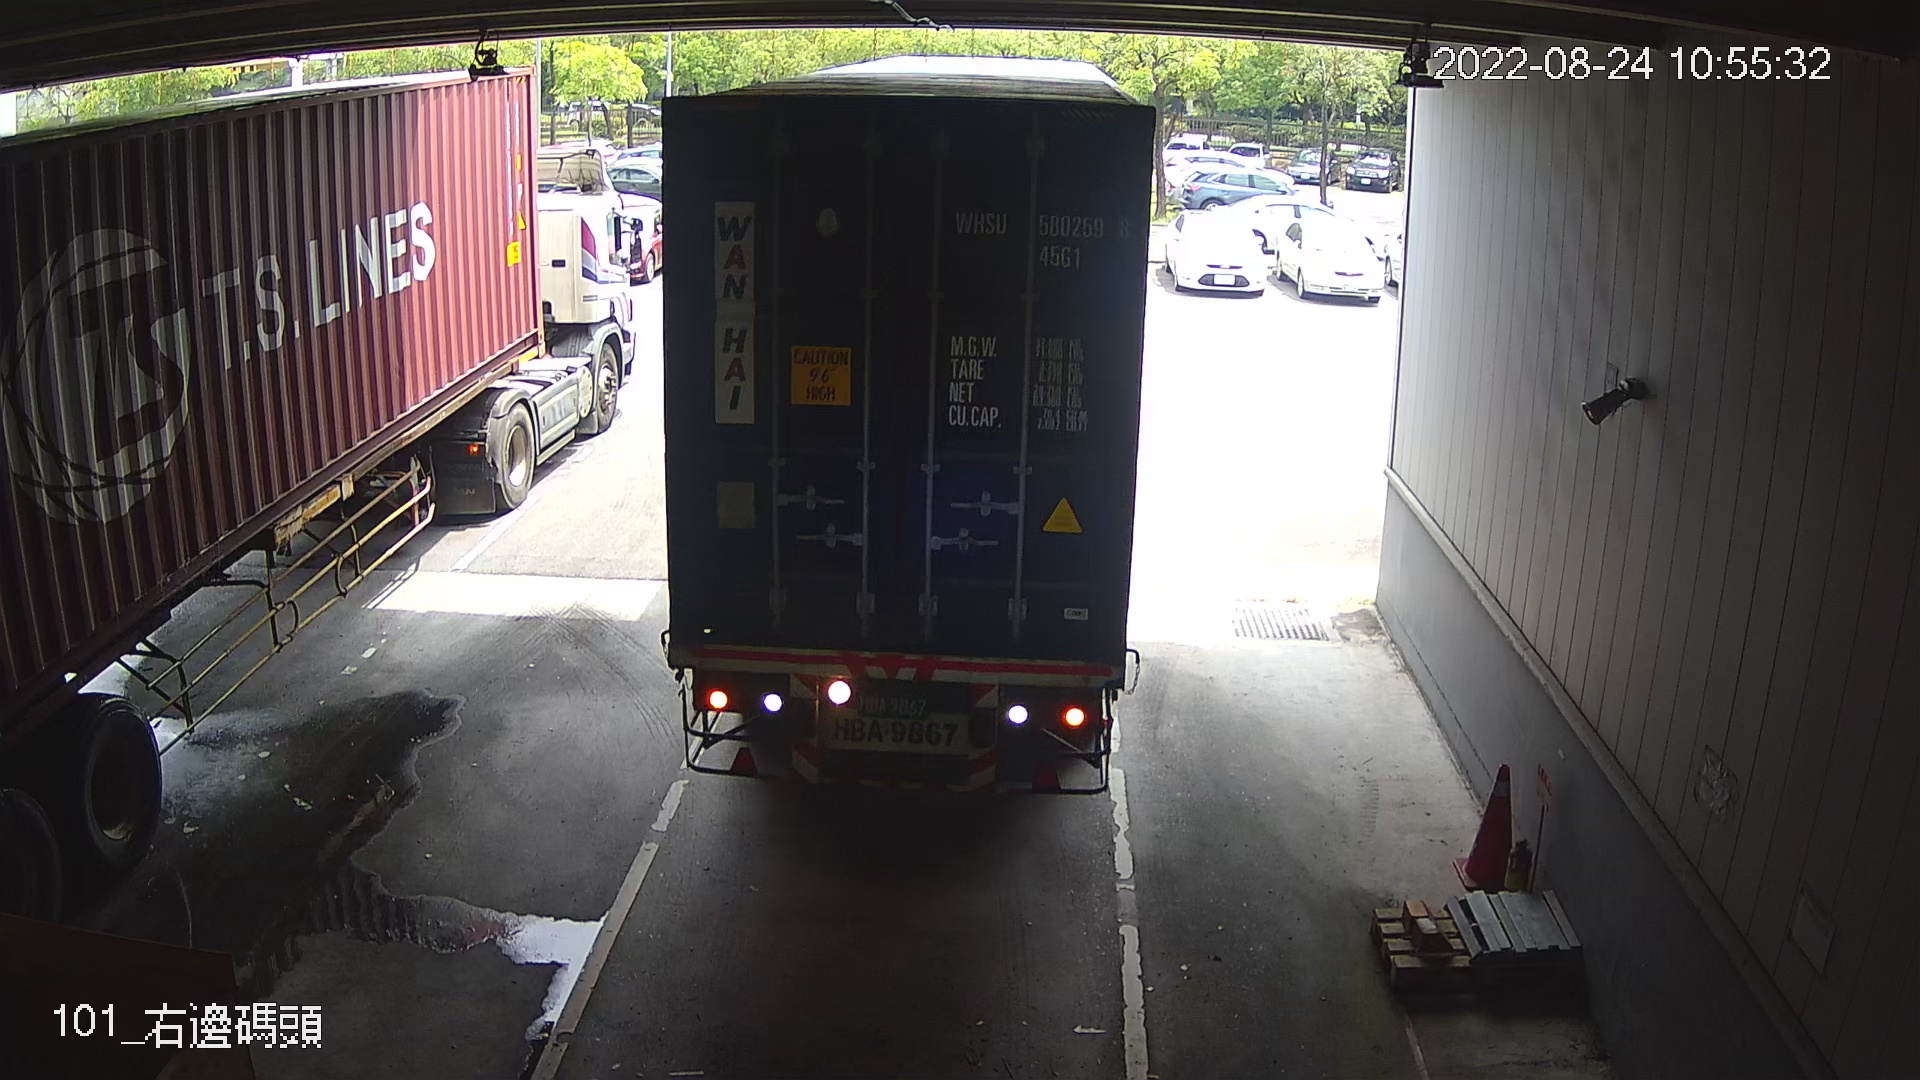container: (947, 196, 1137, 284)
